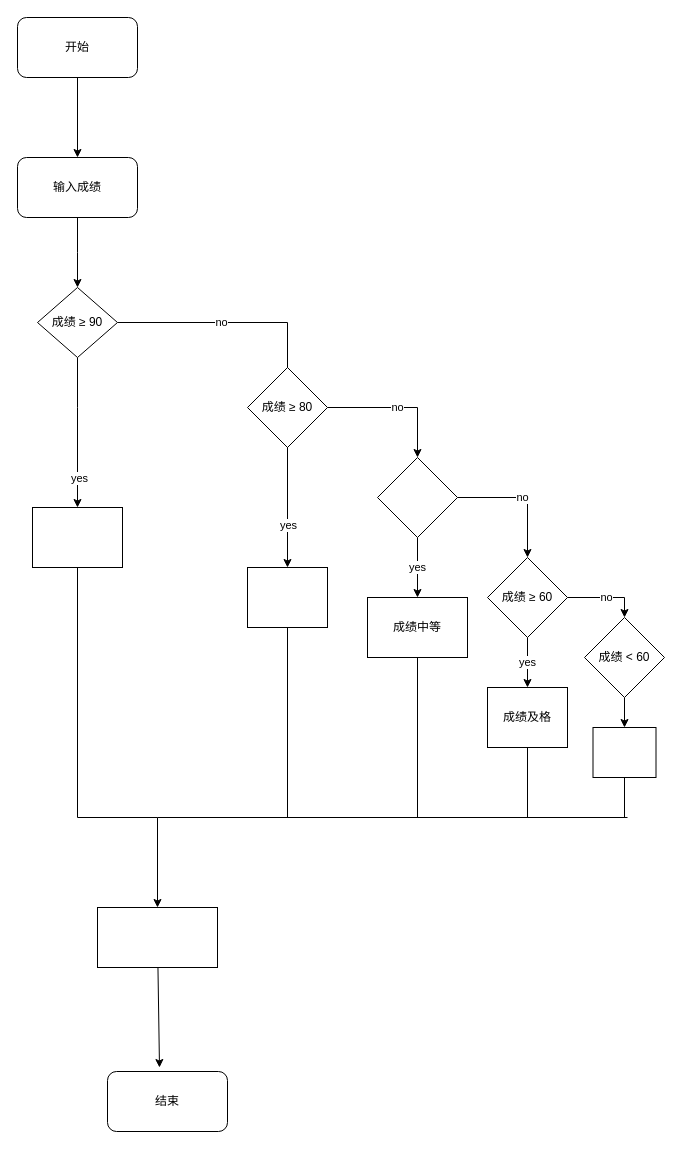
Image size: 682x1149. Some labels were removed from this diagram. The shapes that lost their labels are listed below. From the top down, each one's centre as x and y in pixels, then its label:
At pixel 417 497: "成绩 ≥ 70".
At pixel 77 537: "成绩优秀".
At pixel 287 597: "成绩良好".
At pixel 624 752: "成绩不及格".
At pixel 157 937: "打印成绩".
